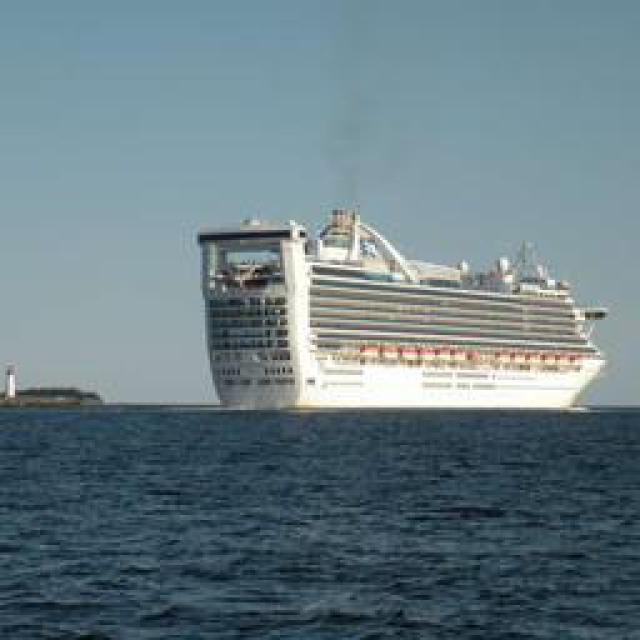Ship: (201, 208, 611, 416)
